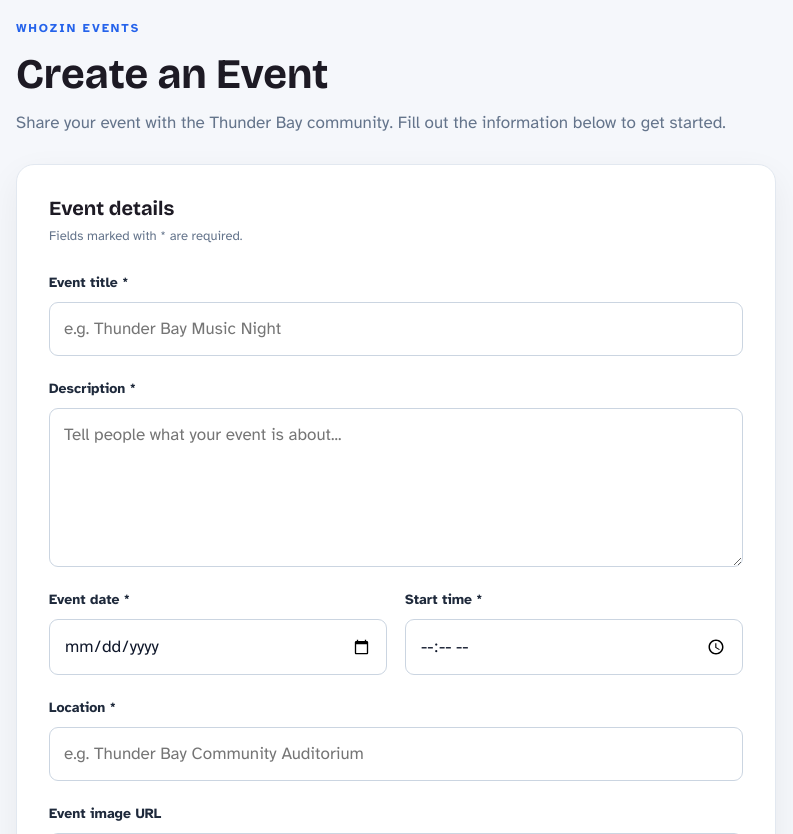
Test: Create Event form › displays a server error
Type "Music Night" into the field labelled "Event title *".
click(396, 329); type("Music Night")  # box 49,302 -> 743,356
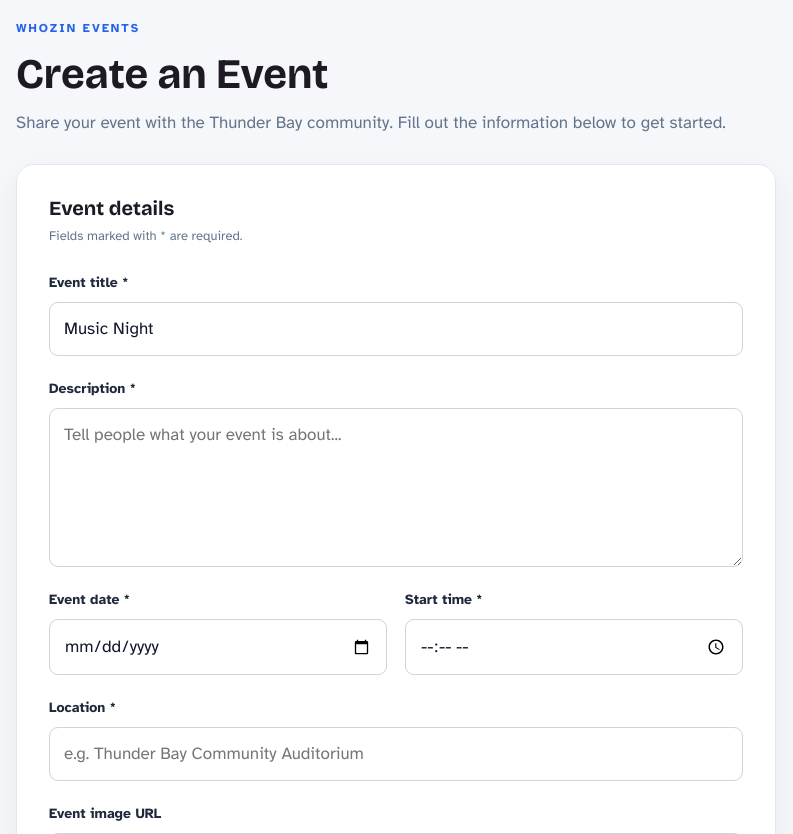
Type "Live music in Thunder Bay" into the text box labelled "Description *".
click(396, 488); type("Live music in Thunder Bay")  # box 49,408 -> 743,567
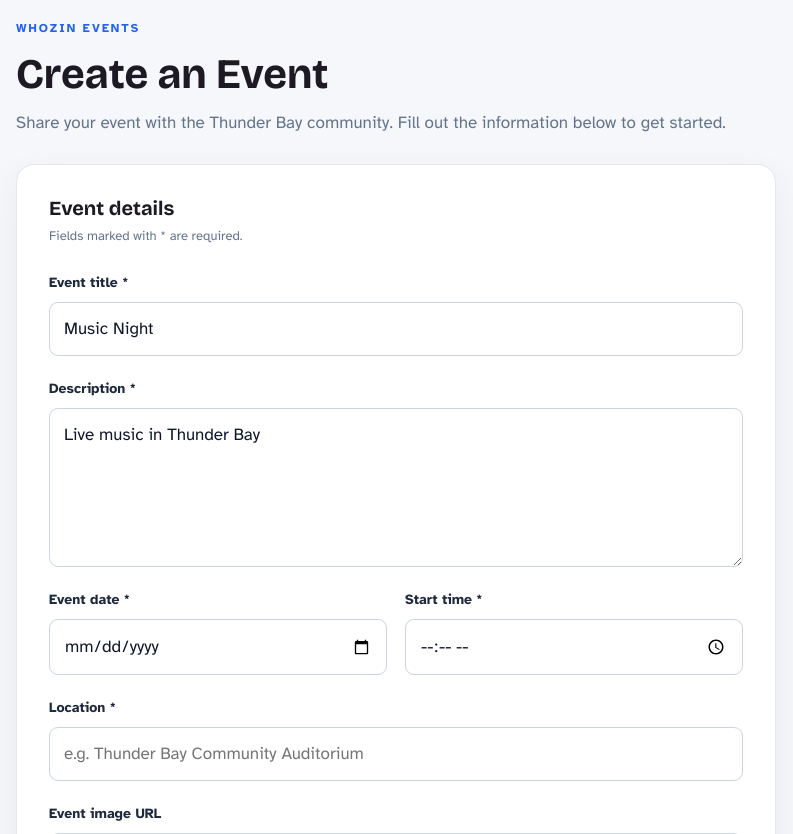
Type "2099-11-14" into the date field labelled "Event date *".
click(218, 647); type("2099-11-14")  # box 49,619 -> 387,675
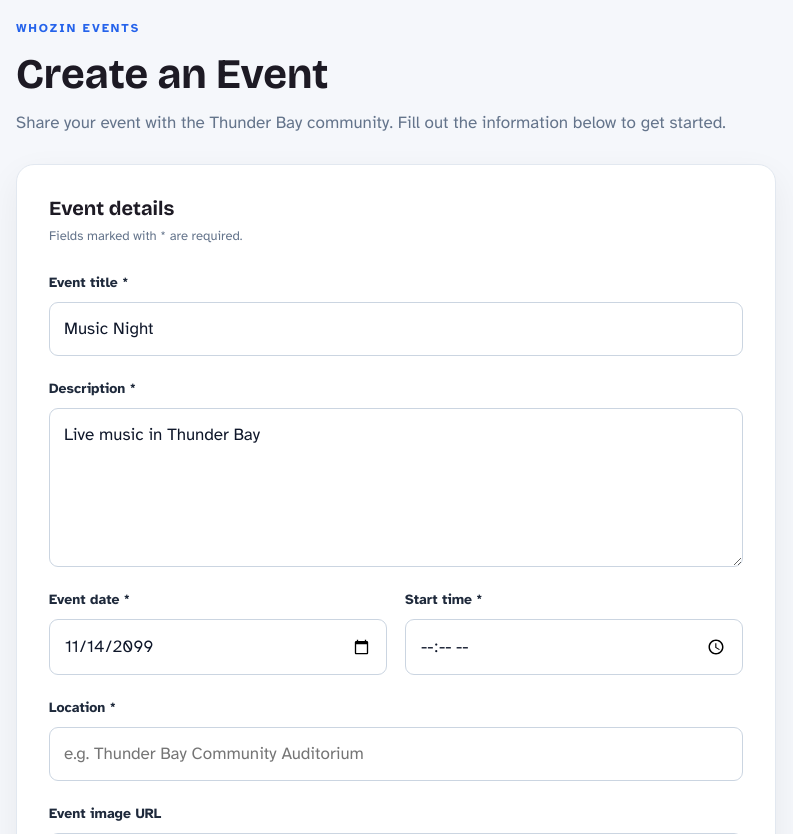
Type "19:00" into the time field labelled "Start time *".
click(574, 647); type("19:00")  # box 405,619 -> 743,675
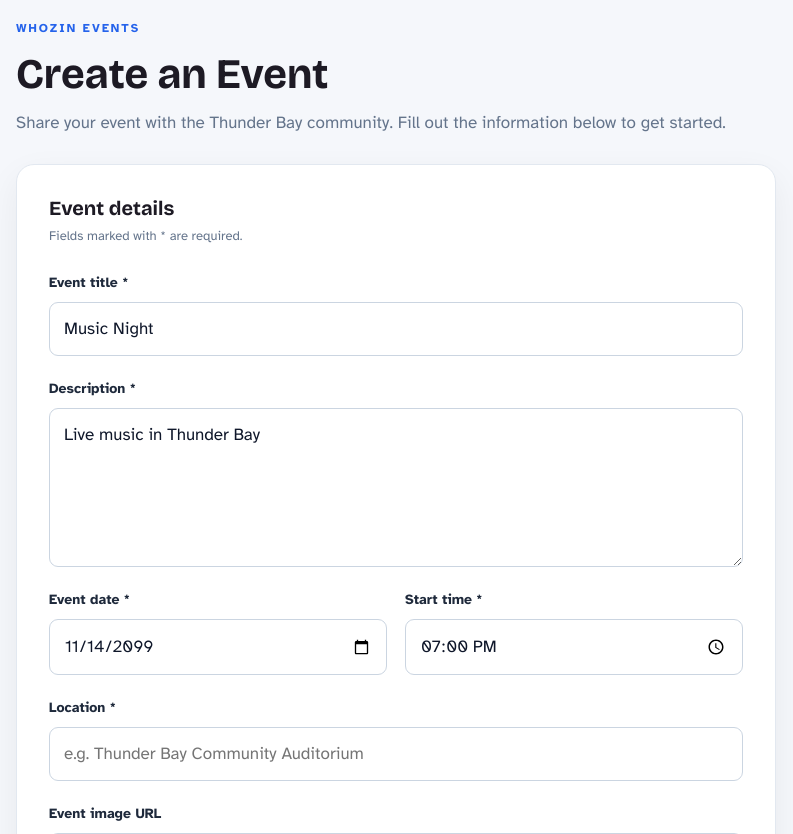
Type "Thunder Bay" into the field labelled "Location *".
click(396, 754); type("Thunder Bay")  # box 49,727 -> 743,781
(page scrolled)
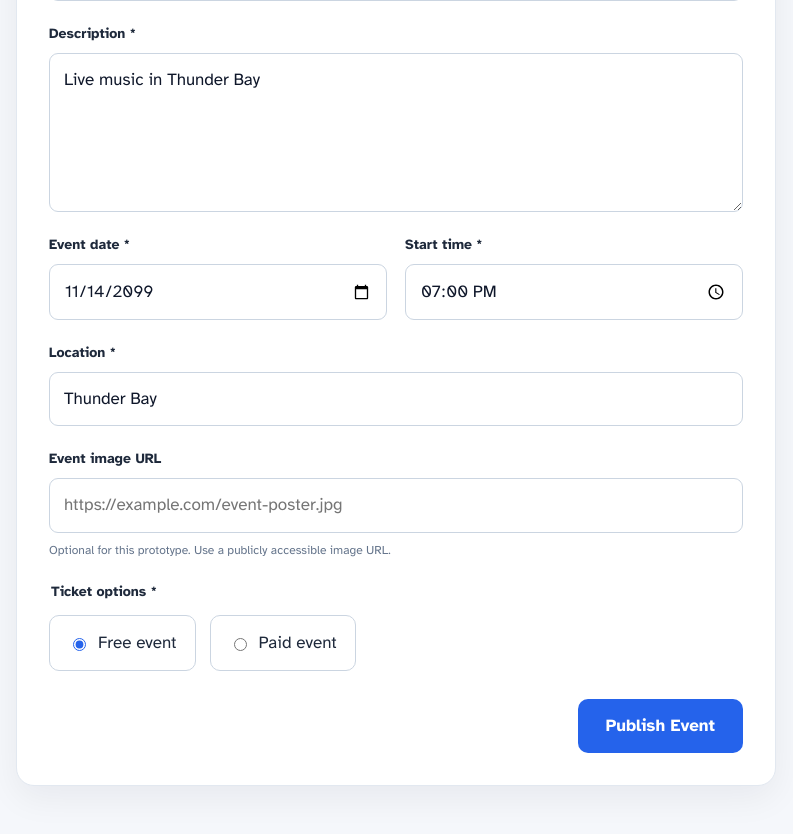
Click the button "Publish Event".
click(660, 726)  # box 578,699 -> 743,753
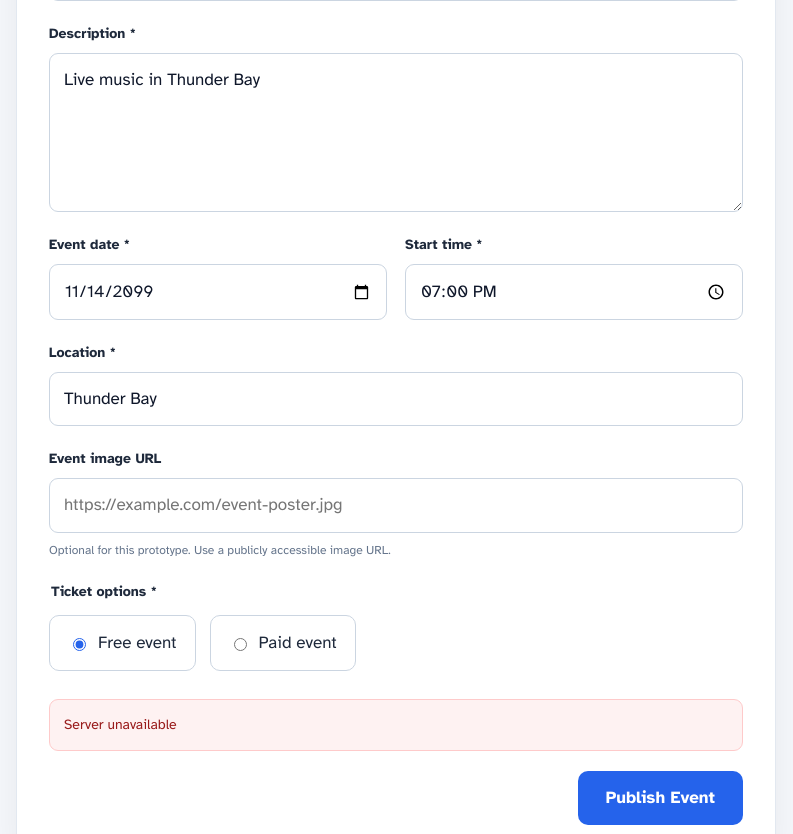
Result: the text "Server unavailable" is shown at 49,699 -> 743,751
